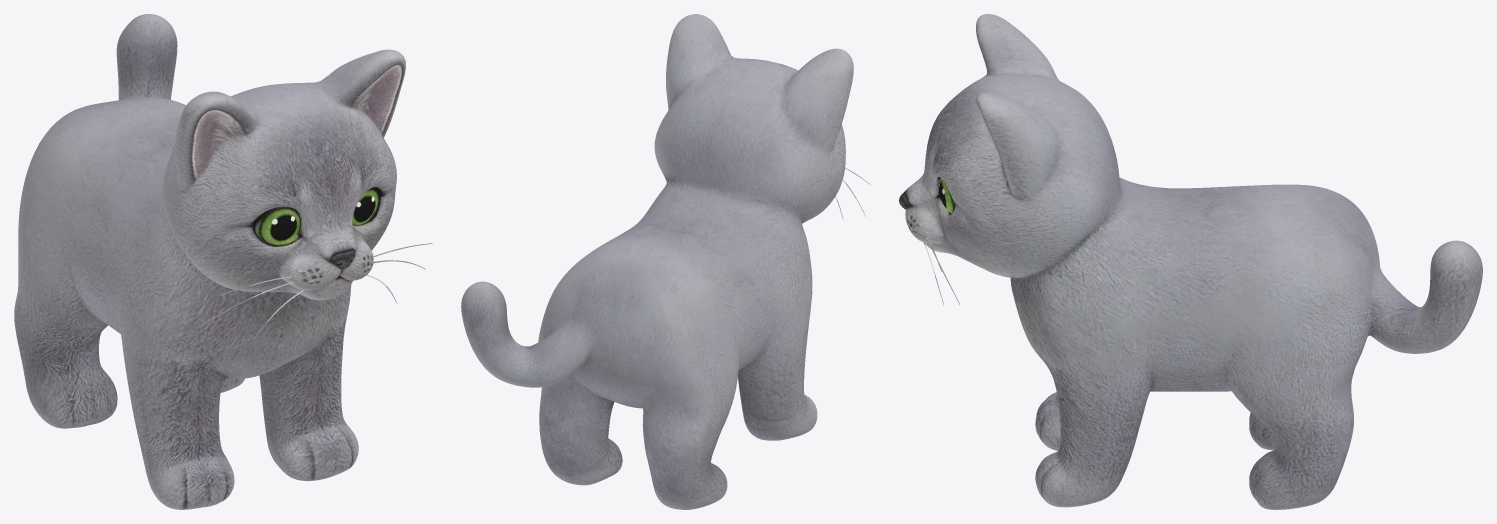
File: meshy-russianblue.glb
The picture shows the model from 3 angles, left to right: view 1: azimuth 30°, elevation 25°; view 2: azimuth 150°, elevation 25°; view 3: azimuth 270°, elevation 25°; orthographic projection. The views are drawn at different scales.
Visible parts, largest first — view 1: Mesh_0; view 2: Mesh_0; view 3: Mesh_0.
Part boxes in pixels (<box>): Mesh_0: <box>14,14,432,509</box>; Mesh_0: <box>461,14,870,509</box>; Mesh_0: <box>899,14,1482,509</box>.
Size of the model in its own units: 0.8225 by 1.49 by 1.9.
Materials: 1 (1 with a texture image).
